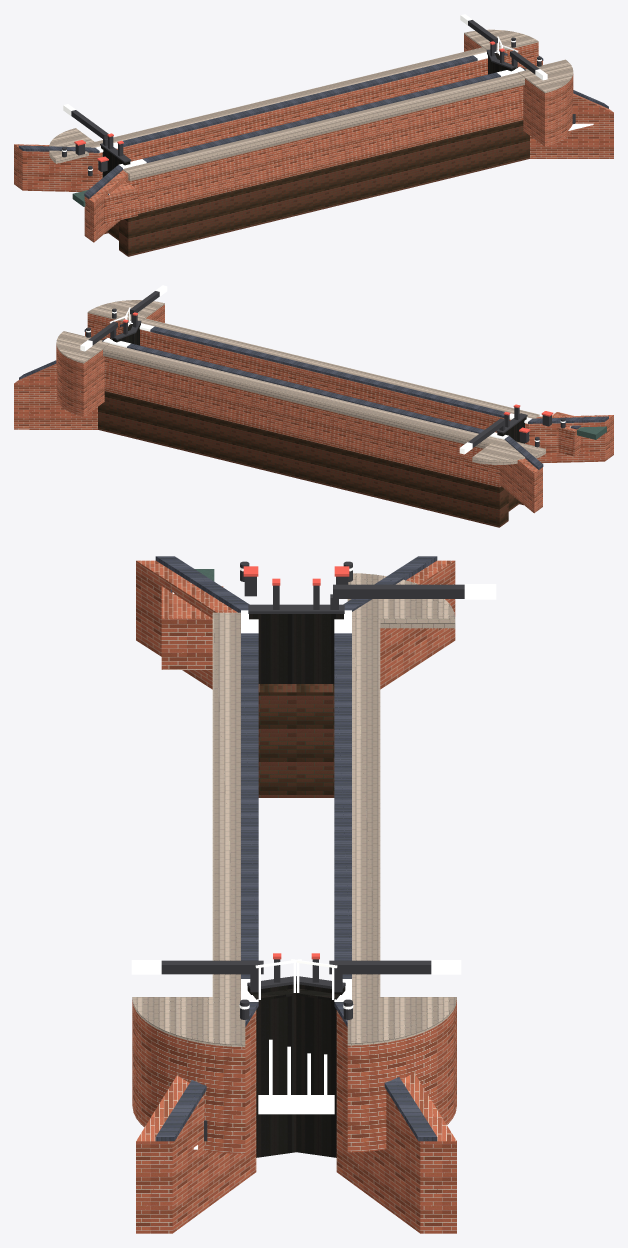
The model's file is lock-36.glb.
3 views of the same model, one above another, from view 1: azimuth 30°, elevation 25°; view 2: azimuth 150°, elevation 25°; view 3: azimuth 270°, elevation 25° (orthographic). The views are drawn at different scales.
Parts seen in each view (by area): view 1: Chamber, ChamberWet, Edge, Coping.001, TopGateCap, Coping, TopGate; view 2: Chamber, ChamberWet, Edge, Coping.001, TopGateCap, Coping, TopGate; view 3: Chamber, Edge, Coping.001, TopGate, ChamberWet, TopGateCap, Coping, Leak.
Boxes of the visible parts, x1,y1,x2,y2 form: Chamber: (14,34,613,242); ChamberWet: (104,120,529,256); Edge: (49,29,573,181); Coping.001: (18,51,608,198); TopGateCap: (62,20,575,176); Coping: (62,14,547,170); TopGate: (101,52,517,177); Chamber: (14,304,613,513); ChamberWet: (98,391,523,527); Edge: (56,300,545,464); Coping.001: (19,320,608,469); TopGateCap: (86,291,565,447); Coping: (80,285,565,454); TopGate: (110,323,526,443); Chamber: (132,560,456,1233); Edge: (132,573,456,1047); Coping.001: (155,556,437,1141); TopGate: (247,614,345,1157); ChamberWet: (258,684,334,797); TopGateCap: (161,561,464,1141); Coping: (131,567,496,1009); Leak: (172,592,334,1149).
Size of the model in its own units: 33.03 by 6.23 by 10.
Materials: 11 (8 with a texture image).
